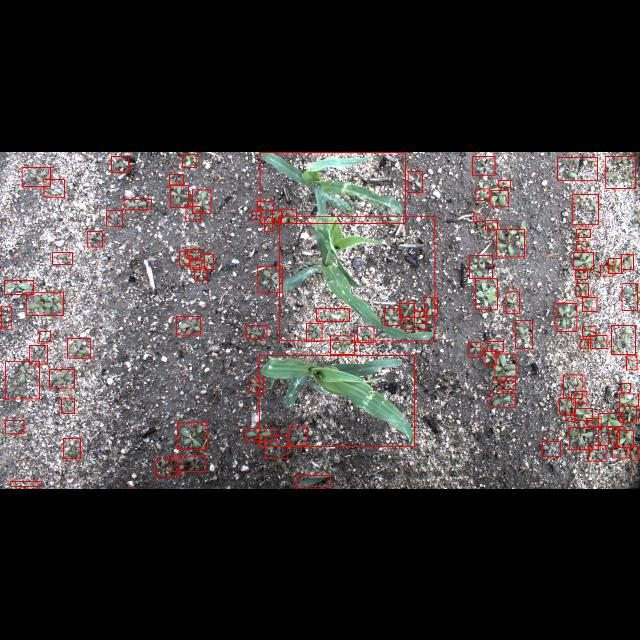crop: (279, 216, 435, 340), (259, 354, 415, 446), (260, 152, 406, 222), (296, 476, 330, 486)
weed: (5, 362, 40, 398), (604, 155, 636, 187), (557, 156, 597, 180), (26, 292, 64, 314), (573, 193, 599, 224), (496, 228, 524, 256), (177, 422, 207, 448), (611, 324, 635, 354), (475, 278, 497, 308), (569, 427, 599, 449), (258, 266, 282, 292), (556, 302, 576, 332), (494, 354, 516, 381), (22, 166, 50, 186), (171, 455, 205, 471), (264, 436, 288, 458), (470, 255, 492, 278), (50, 368, 74, 388), (331, 334, 355, 354), (563, 374, 583, 398), (192, 189, 212, 213), (154, 458, 180, 476), (516, 320, 532, 348), (622, 282, 638, 310), (68, 338, 90, 358), (473, 155, 495, 175), (176, 316, 200, 334), (4, 280, 34, 294), (288, 426, 308, 446), (316, 308, 349, 320), (170, 185, 188, 207), (489, 393, 515, 407), (44, 178, 64, 196), (30, 344, 48, 364), (246, 428, 276, 440), (64, 438, 80, 458), (574, 252, 594, 268), (408, 170, 422, 192), (306, 322, 322, 340), (617, 430, 633, 448), (599, 414, 623, 426), (124, 199, 152, 209), (246, 324, 266, 338), (506, 292, 520, 312), (384, 308, 401, 324), (4, 420, 23, 434), (406, 316, 426, 329), (107, 209, 123, 225), (112, 155, 128, 171), (358, 326, 374, 342), (620, 406, 636, 422), (588, 446, 606, 460), (542, 442, 560, 456), (424, 297, 438, 315), (590, 334, 608, 348), (490, 190, 508, 204), (53, 252, 73, 264), (88, 230, 102, 246), (582, 296, 598, 310), (400, 302, 414, 318), (559, 398, 575, 412), (1, 306, 11, 328), (574, 408, 592, 420), (620, 394, 638, 406), (61, 398, 74, 414), (486, 341, 504, 352), (250, 378, 264, 392), (182, 153, 196, 167), (468, 342, 482, 356), (186, 206, 200, 220), (282, 209, 296, 223), (608, 258, 622, 272), (500, 376, 516, 388), (612, 447, 628, 458), (626, 355, 638, 369), (414, 310, 426, 324), (608, 428, 620, 442), (572, 391, 586, 403), (485, 350, 497, 364), (576, 282, 588, 296), (600, 264, 614, 276), (621, 254, 633, 268), (257, 200, 273, 210), (195, 267, 208, 279), (169, 173, 183, 184), (476, 188, 488, 200), (179, 251, 189, 265), (187, 248, 201, 258), (630, 446, 640, 460), (582, 326, 596, 336), (204, 254, 213, 268), (10, 482, 40, 486), (485, 219, 497, 229), (264, 217, 272, 231), (587, 418, 601, 426), (576, 228, 590, 236), (40, 331, 50, 341), (272, 210, 282, 220), (576, 240, 586, 250), (190, 260, 202, 268), (575, 270, 587, 278), (498, 179, 510, 187), (252, 210, 260, 220), (622, 382, 630, 392), (580, 338, 588, 348), (472, 213, 480, 221), (566, 415, 574, 421)
